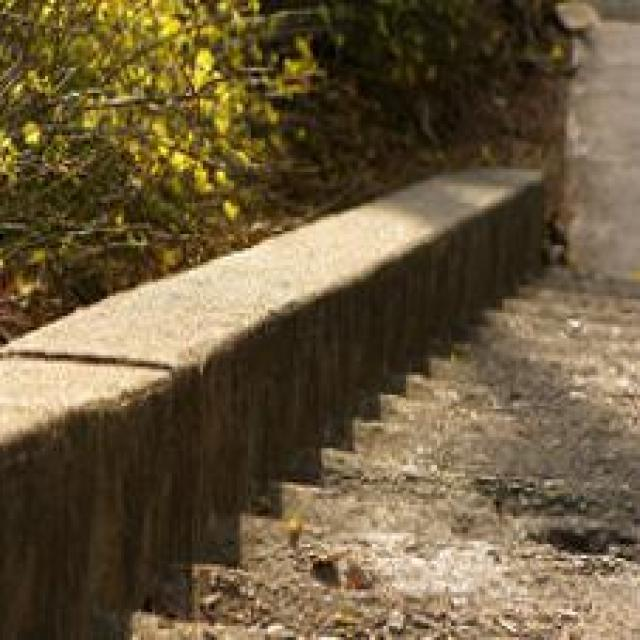upstair: (306, 365, 619, 610)
